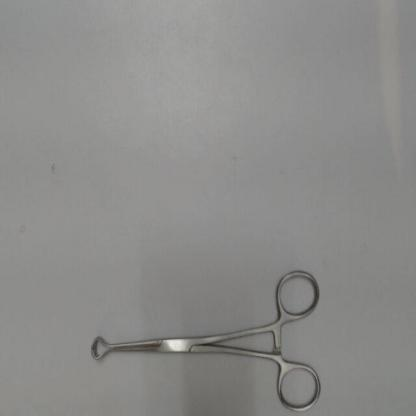Babcock Tissue Forceps: (87, 261, 325, 413)
